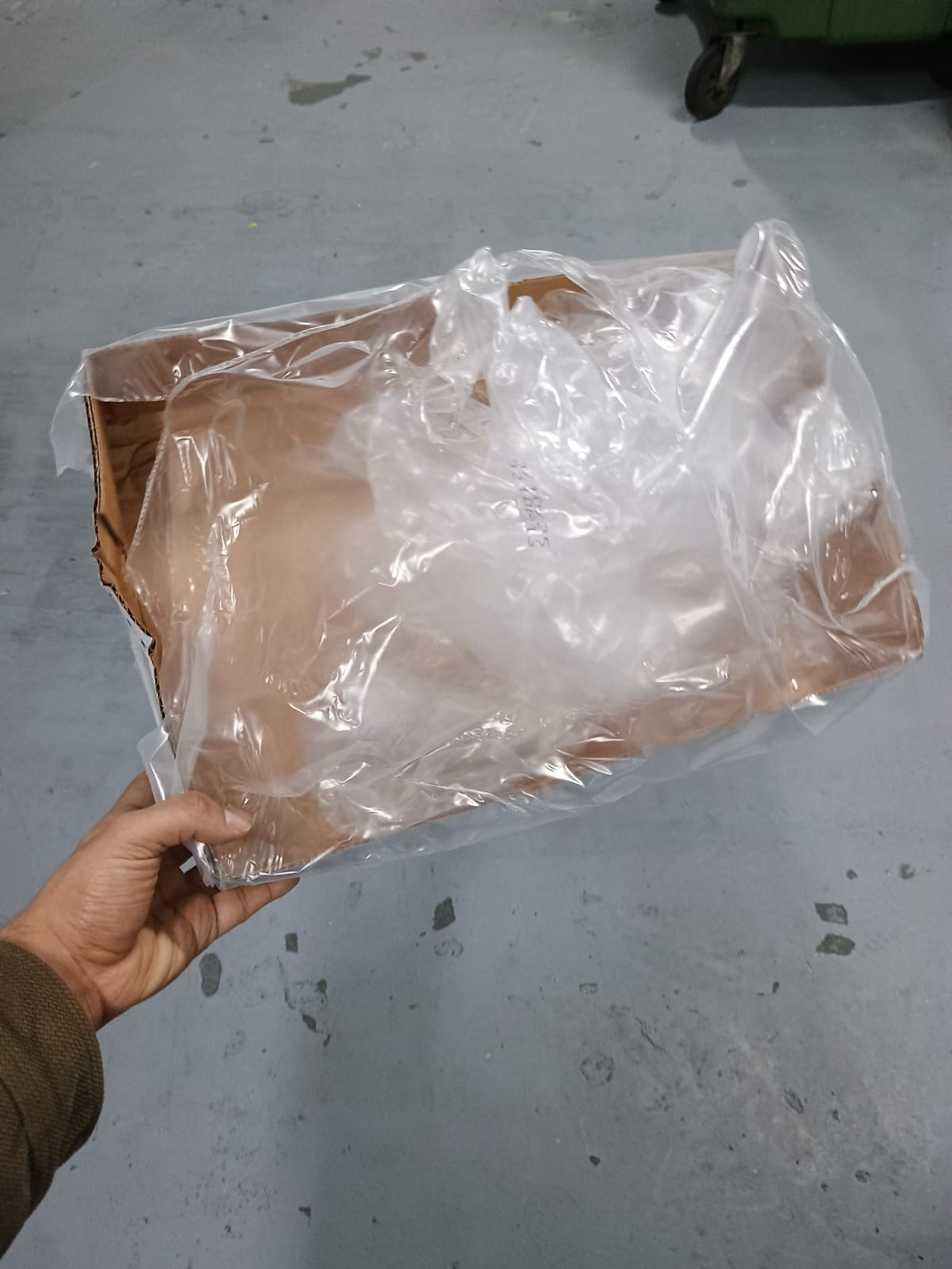Plastico: (50, 223, 940, 896)
